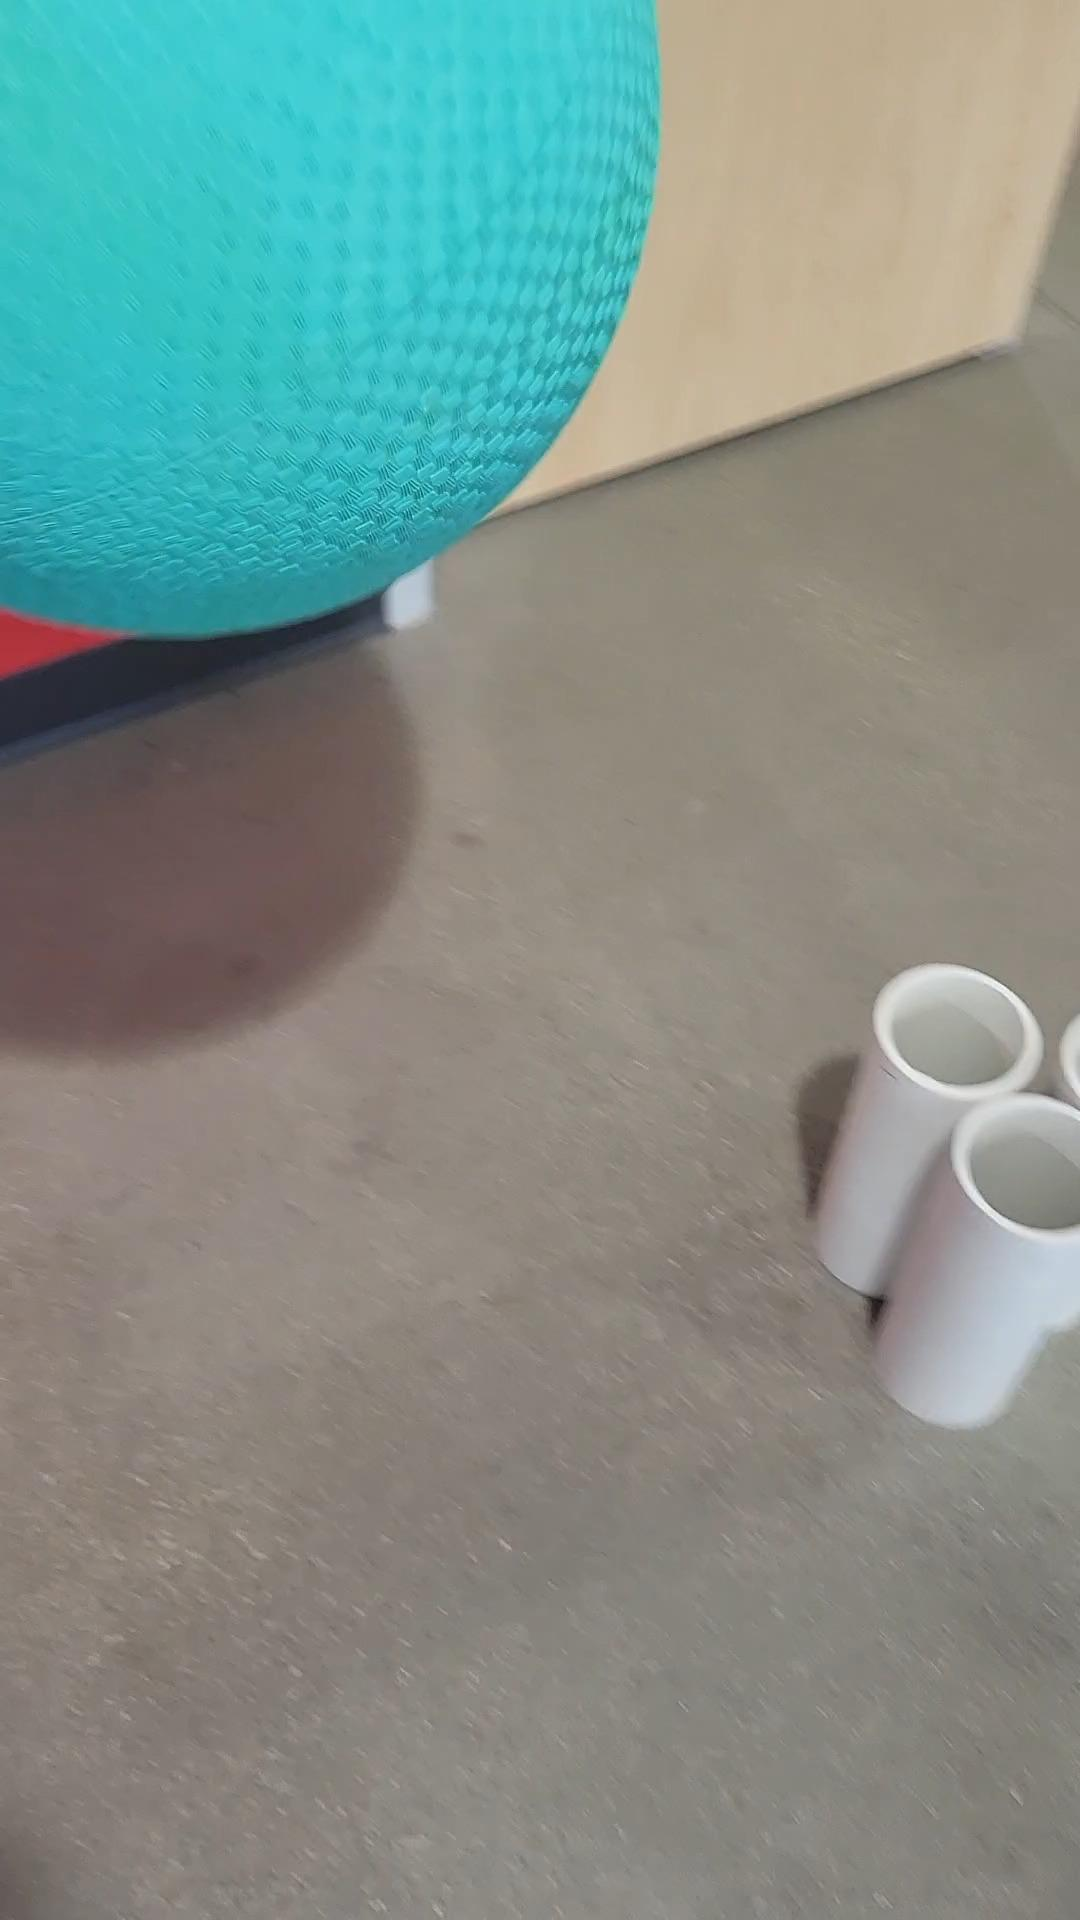algae: (0, 0, 655, 629)
coral: (889, 1105, 1080, 1455), (843, 968, 1038, 1296), (1067, 1005, 1071, 1101)
